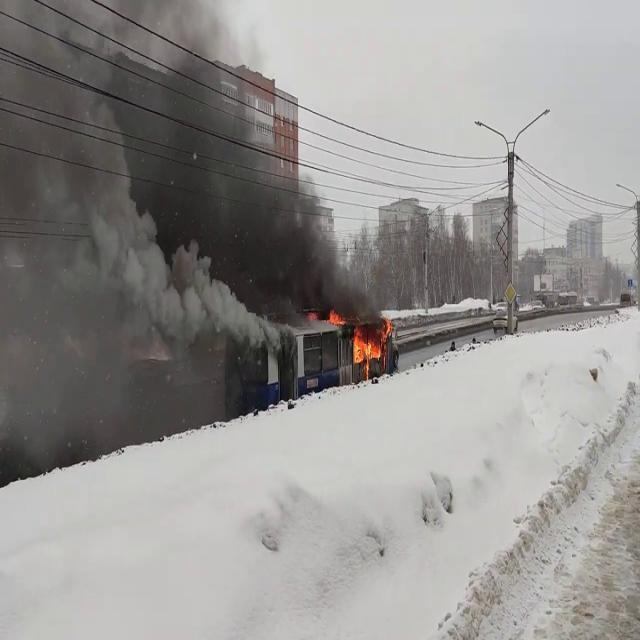Fire: (351, 323, 386, 373)
Smoke: (0, 1, 255, 432), (171, 114, 383, 332)
